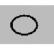no answer: (6, 12, 38, 39)
